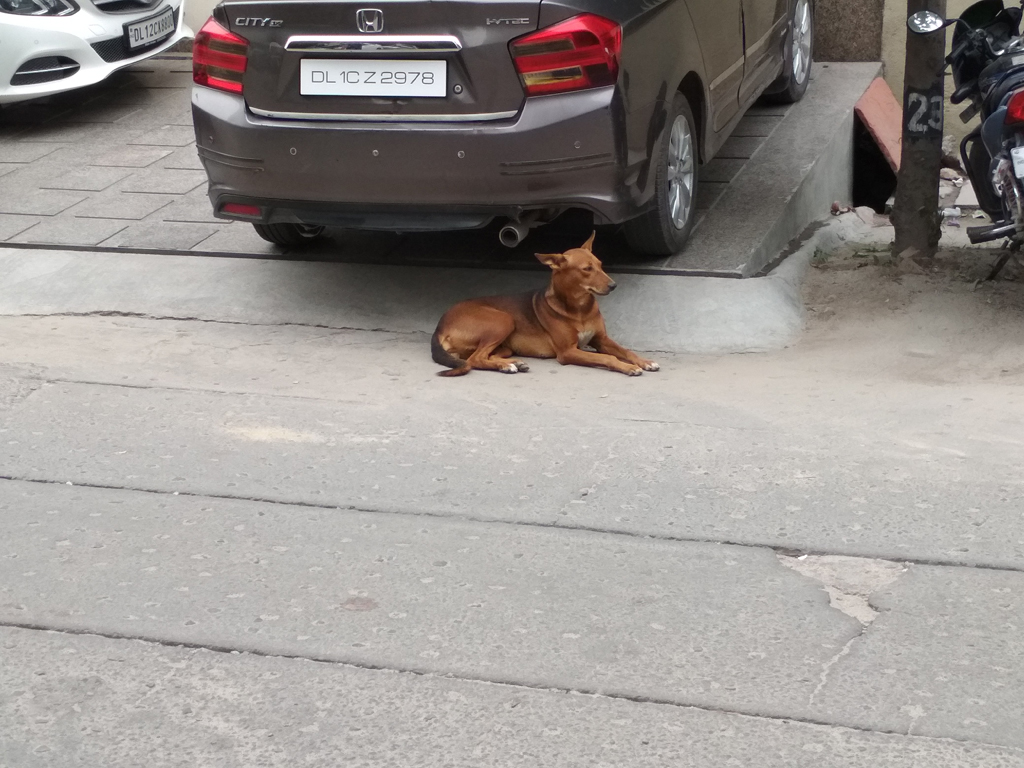dog: (431, 229, 660, 378)
